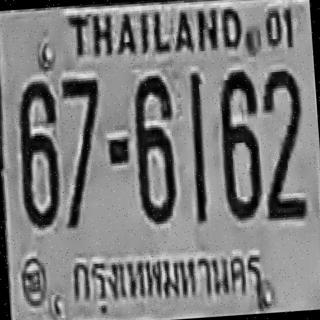N01: (186, 70, 210, 221)
N02: (256, 67, 308, 220)
N06: (130, 71, 178, 222), (215, 68, 263, 217), (14, 78, 62, 226)
N07: (57, 74, 106, 227)
P04: (66, 241, 268, 317)
